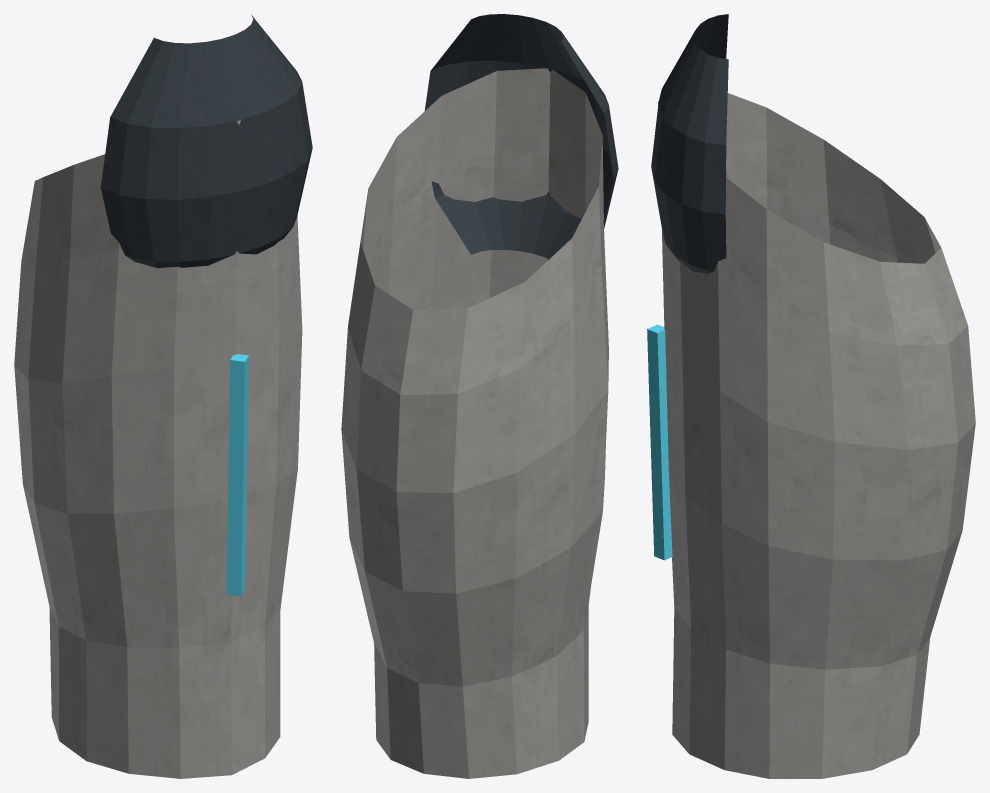
The model's file is eq_future_2_leg.glb.
3 renders of one model, left to right at view 1: azimuth 30°, elevation 25°; view 2: azimuth 150°, elevation 25°; view 3: azimuth 270°, elevation 25°, orthographic. The views are drawn at different scales.
Visible parts, largest first — view 1: eq_future_2_leg; view 2: eq_future_2_leg; view 3: eq_future_2_leg.
Part boxes in pixels (<box>): eq_future_2_leg: <box>14,14,312,778</box>; eq_future_2_leg: <box>341,14,618,778</box>; eq_future_2_leg: <box>647,14,975,778</box>.
Size of the model in its own units: 0.1539 by 0.4472 by 0.1909.
Materials: 3 (2 with a texture image).
